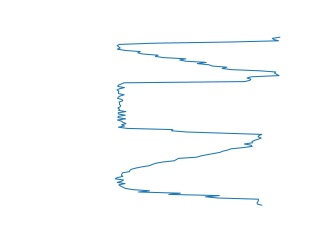distributaryChannelFill: (114, 72, 265, 142)
mouthBar: (114, 33, 283, 76)
underwaterDistributaryChannel: (111, 138, 266, 211)
